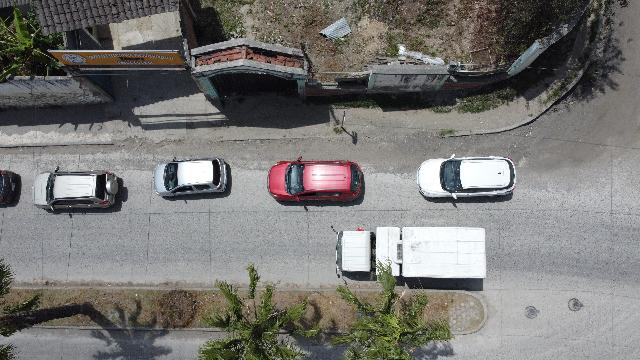Vehiculo: (418, 154, 516, 200), (268, 158, 364, 202), (32, 167, 118, 211), (153, 157, 227, 197), (1, 170, 22, 208)
